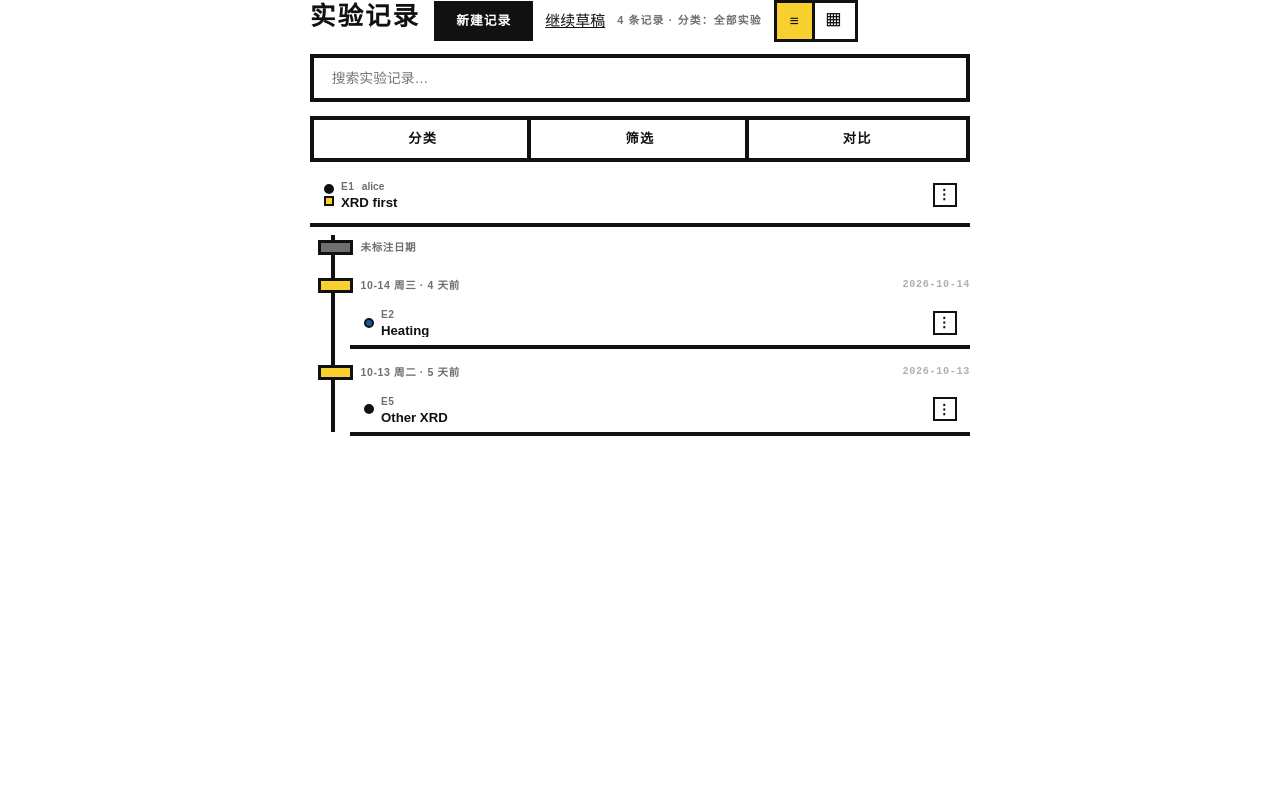
Scenario: 分类分配部分失败时刷新已保存状态，避免重试反向切换成功的分类
expect the text "XRD first" is shown: met, box [341,196,397,209]
Click the button named "Experiment actions".
click(944, 194)  # box [932,182,956,206]
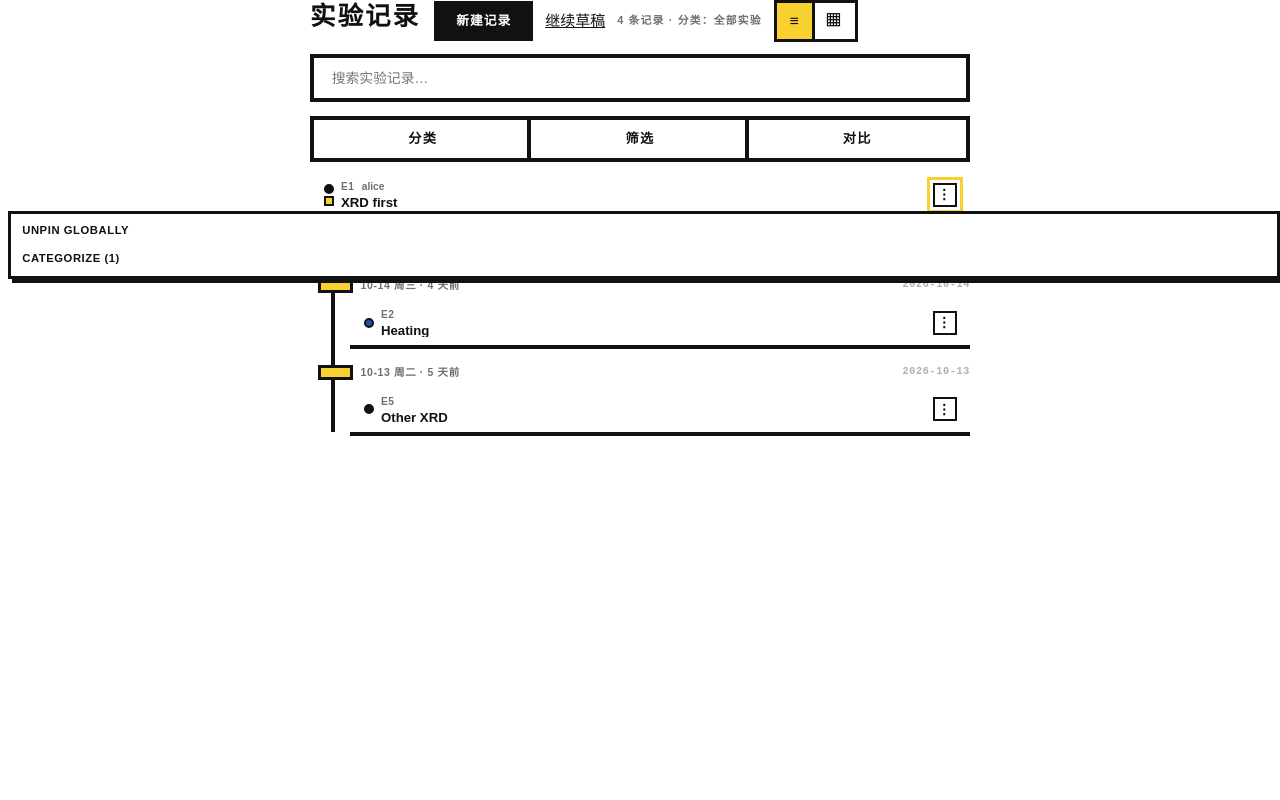
Click the button "Categorize (1)".
click(62, 258)  # box [11,245,1277,273]
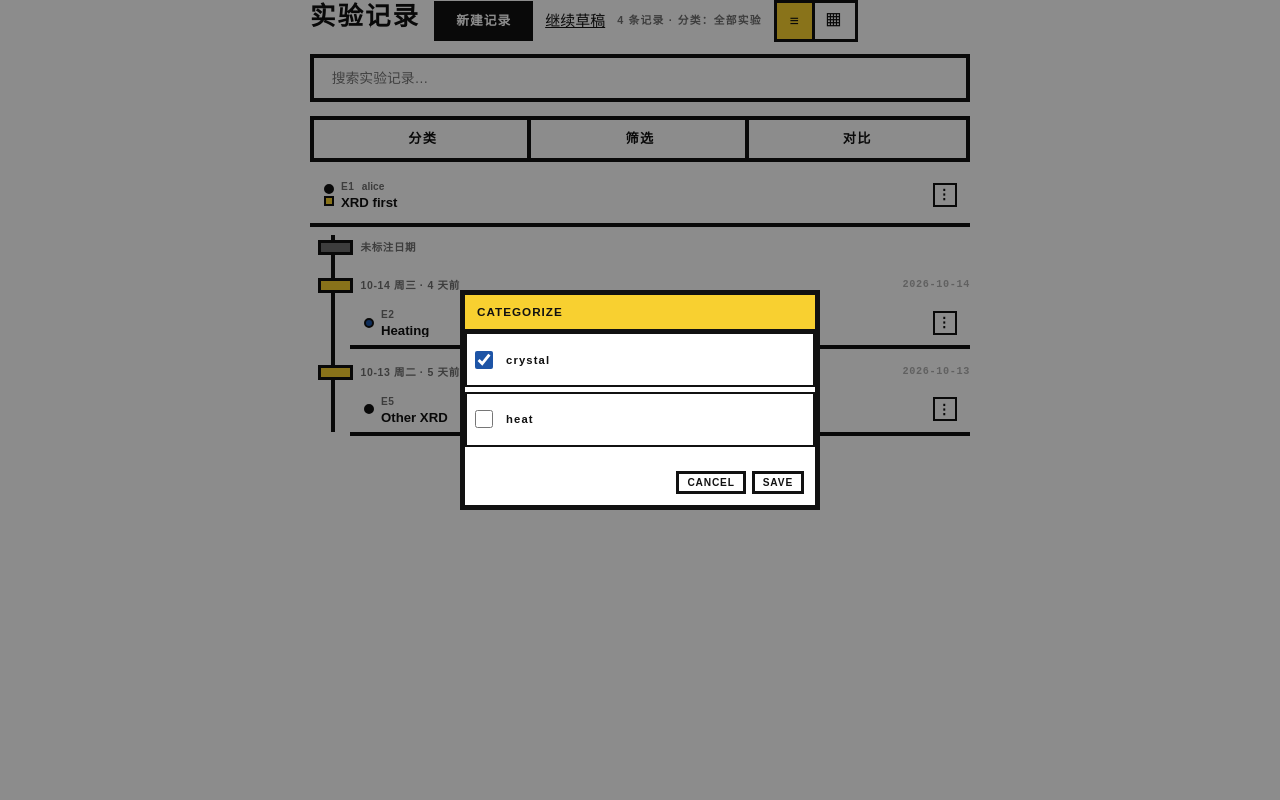
Click the checkbox labelled "crystal".
click(484, 360)  # box [475,340,493,380]
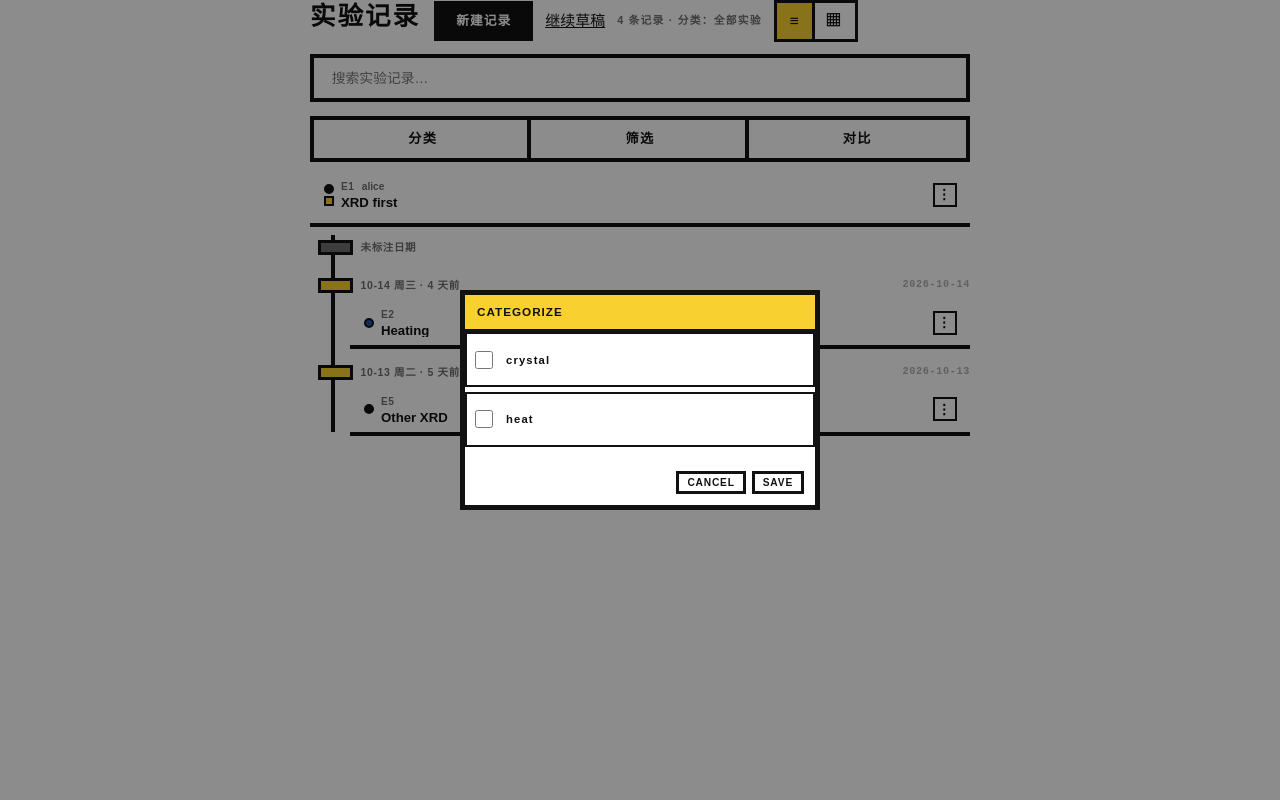
Click the checkbox labelled "heat".
click(484, 419)  # box [475,399,493,439]
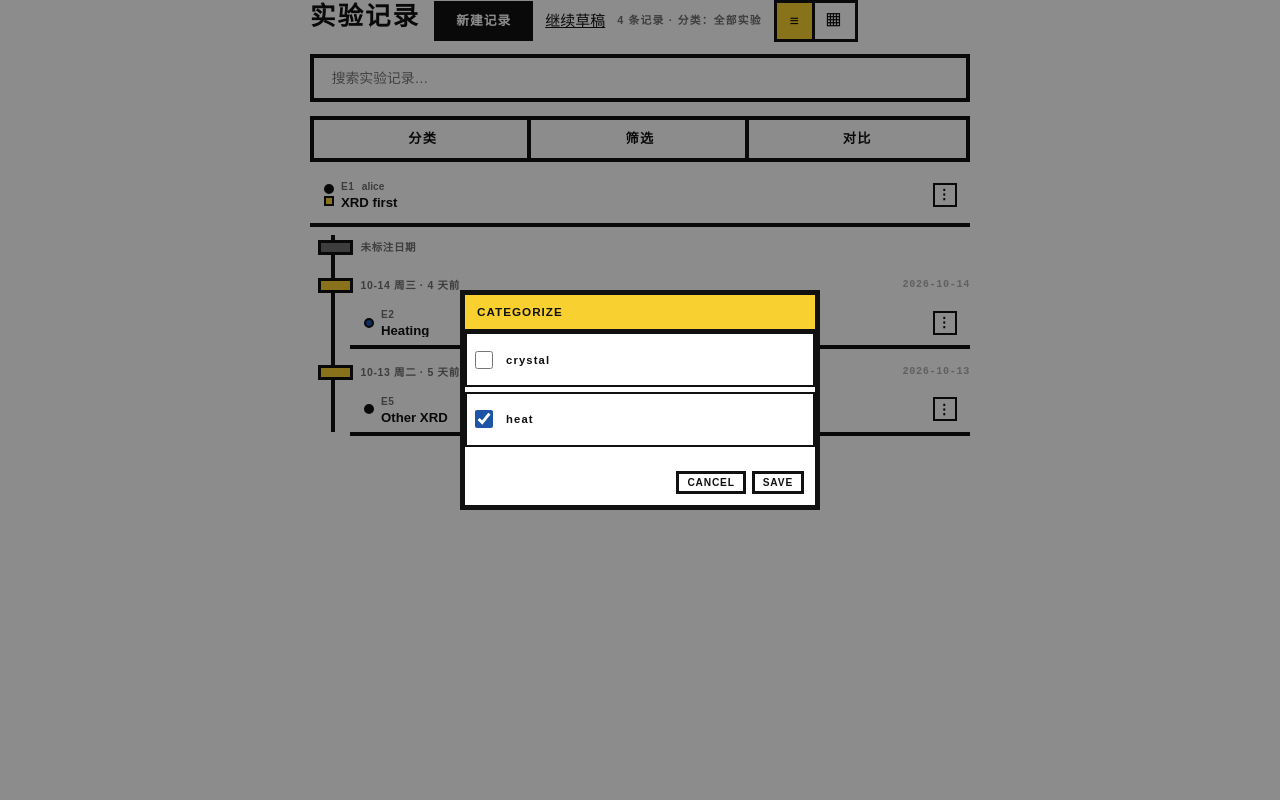
Click the button "Save".
click(778, 483)  # box [753,472,803,493]
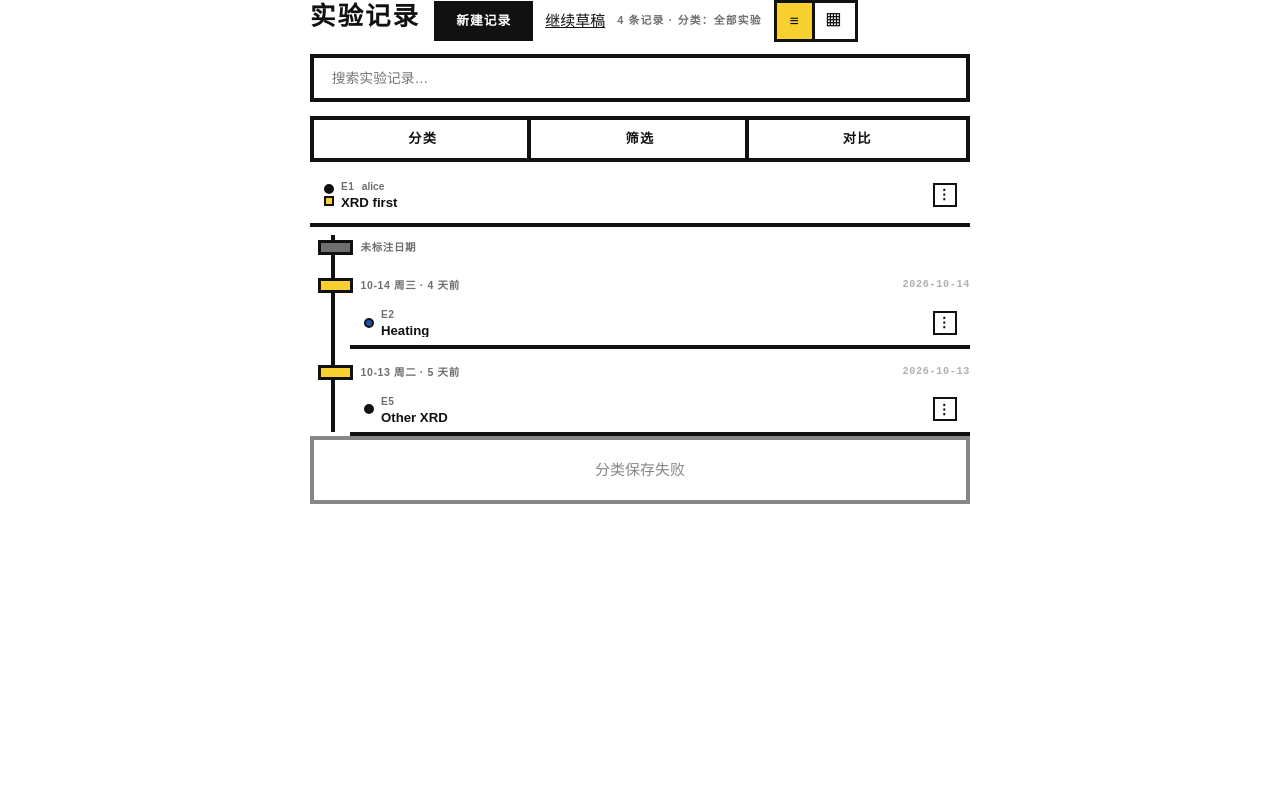
expect the message reads "分类保存失败": met, box [595,461,685,478]
Click the button named "Experiment actions".
click(944, 194)  # box [932,182,956,206]
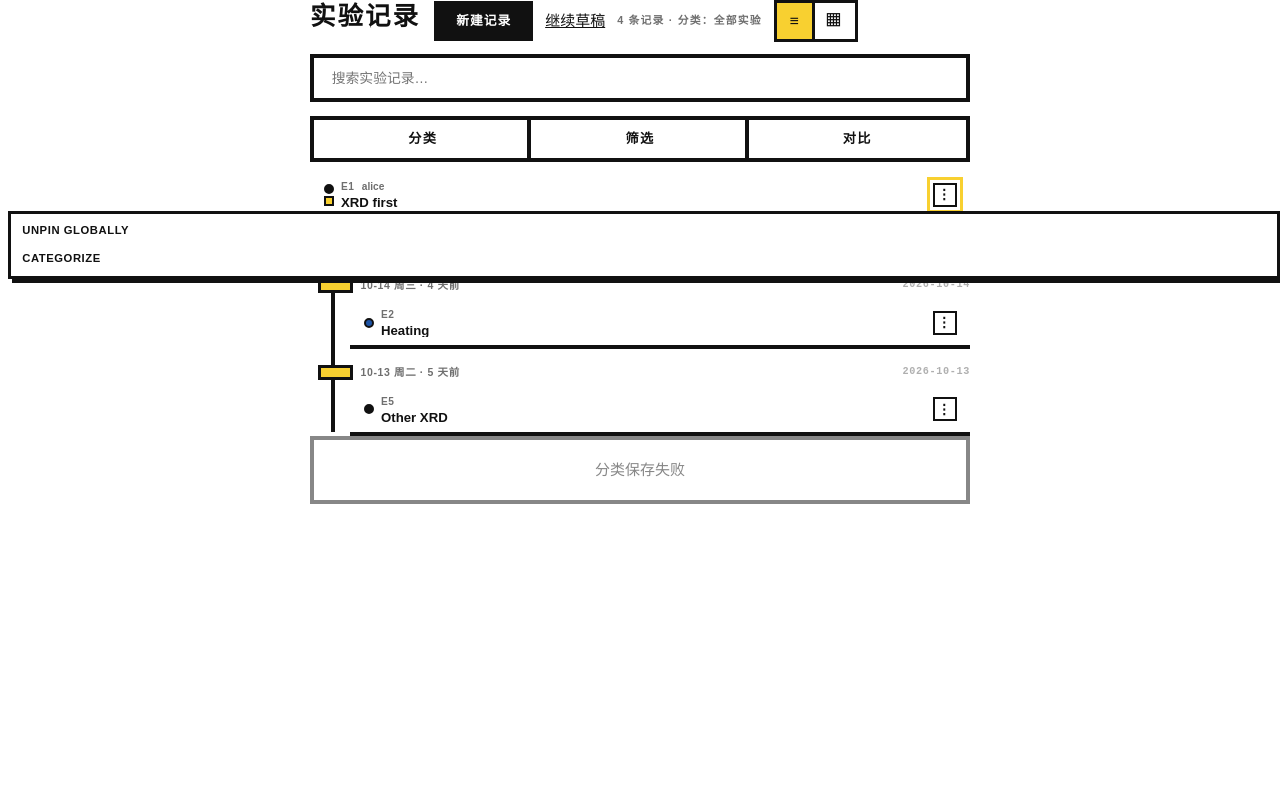
expect the button "Categorize" is shown: met, box [11,245,1277,273]
